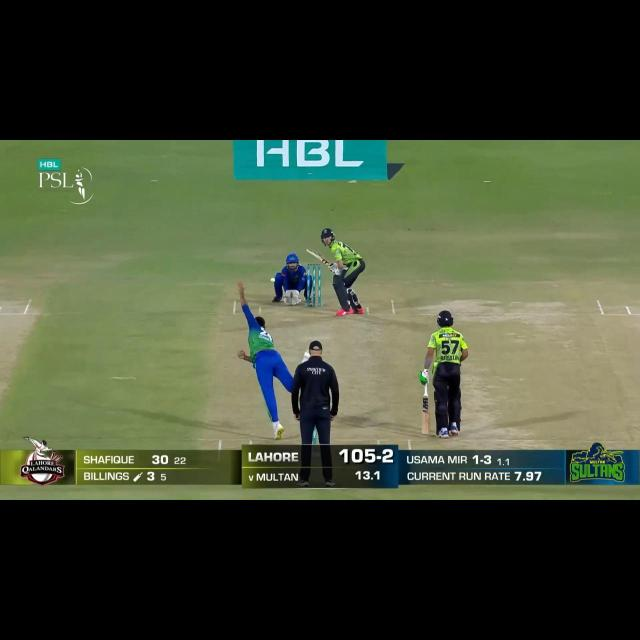bat: (303, 245, 333, 268), (420, 392, 432, 438)
toe: (418, 429, 431, 437), (304, 246, 314, 256)
